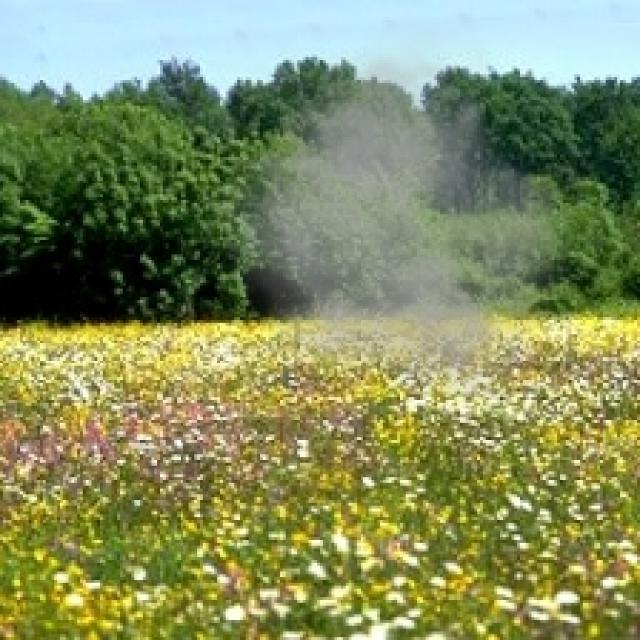Smoke: (200, 12, 589, 397)
